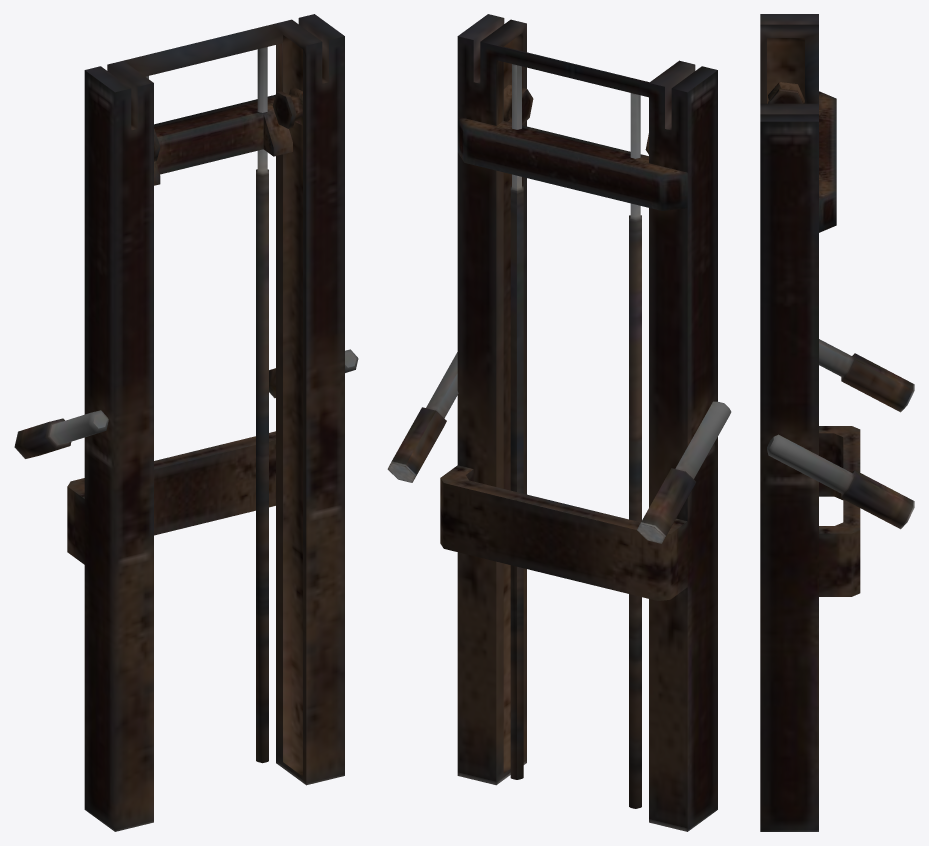
File: fl_mast.glb
3 views of the same model, side by side, from view 1: azimuth 30°, elevation 25°; view 2: azimuth 150°, elevation 25°; view 3: azimuth 270°, elevation 25° (orthographic). The views are drawn at different scales.
Size of the model in its own units: 0.7101 by 1.81 by 0.3551.
Materials: 1 (1 with a texture image).
